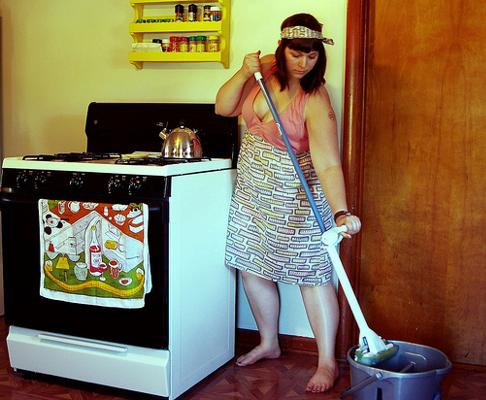person: (213, 13, 366, 396)
